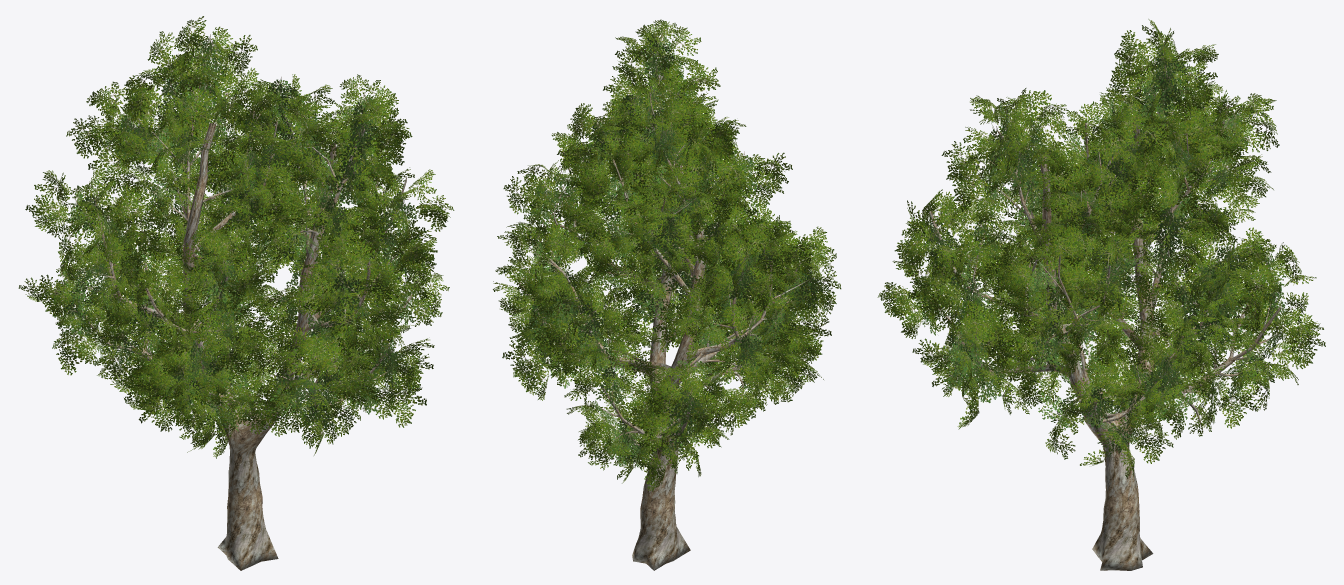
File: defaultlondonplane.glb
3 renders of one model, left to right at view 1: azimuth 30°, elevation 25°; view 2: azimuth 150°, elevation 25°; view 3: azimuth 270°, elevation 25°, orthographic. The views are drawn at different scales.
Visible parts, largest first — view 1: DefaultLondonPlane; view 2: DefaultLondonPlane; view 3: DefaultLondonPlane.
Part boxes in pixels (<box>): DefaultLondonPlane: <box>18,16,454,570</box>; DefaultLondonPlane: <box>493,19,841,570</box>; DefaultLondonPlane: <box>877,19,1325,570</box>.
Bounding box in the file's own units: 14.81 × 20.2 × 15.83.
4 materials, 4 textured.
